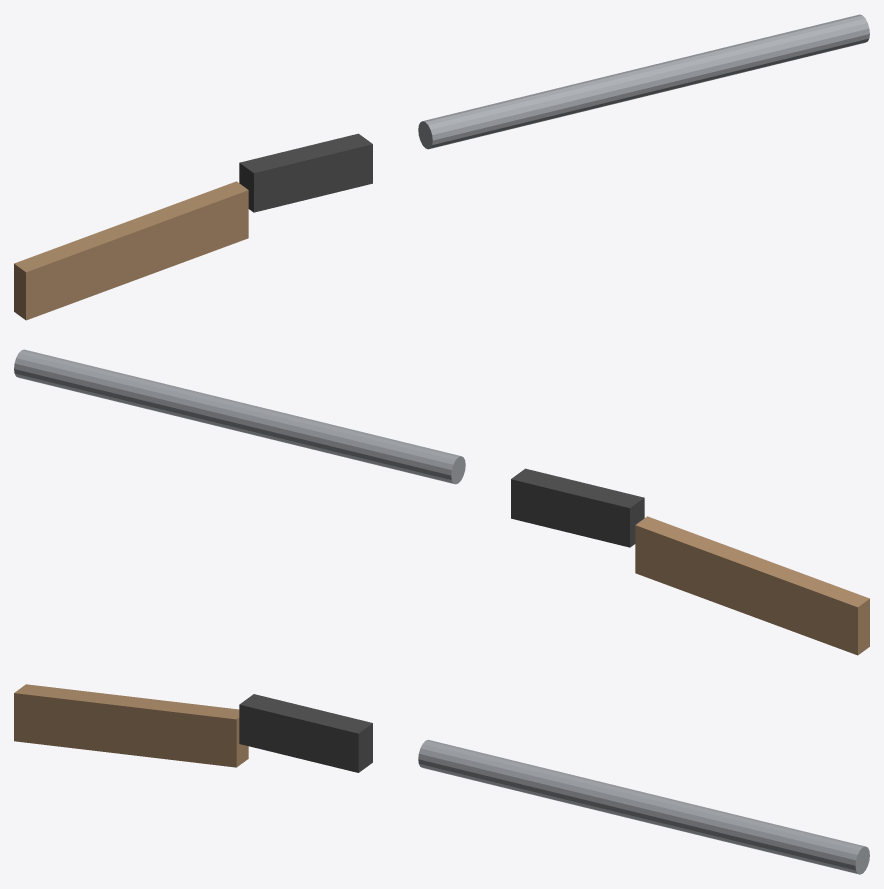
Rendered from shotgun_auto.glb.
The picture shows the model from 3 angles, top to bottom: view 1: azimuth 30°, elevation 25°; view 2: azimuth 150°, elevation 25°; view 3: azimuth 330°, elevation 25°; orthographic projection.
Visible parts, largest first — view 1: shotgun_auto; view 2: shotgun_auto; view 3: shotgun_auto.
Boxes of the visible parts, left/top/right/bottom form: shotgun_auto: left=14, top=14, right=869, bottom=320; shotgun_auto: left=14, top=349, right=869, bottom=655; shotgun_auto: left=14, top=684, right=869, bottom=874.
Bounding box in the file's own units: 1.01 × 0.1085 × 0.03.
